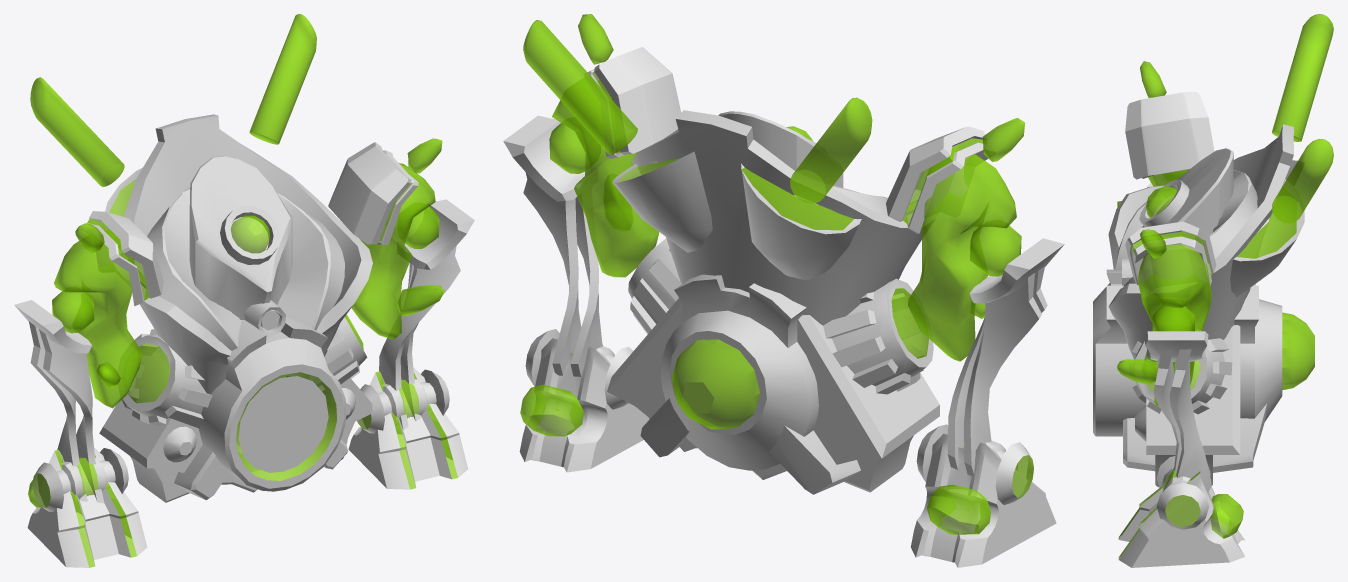
File: jade_turret.glb
The picture shows the model from 3 angles, left to right: view 1: azimuth 30°, elevation 25°; view 2: azimuth 150°, elevation 25°; view 3: azimuth 270°, elevation 25°; orthographic projection. The views are drawn at different scales.
Parts seen in each view (by area): view 1: FIN_Body, FIN_Leg, FIN_UpperLeg, FIN_Foot, FIN_Jade, FIN_LegArmour.001; view 2: FIN_Body, FIN_Leg, FIN_UpperLeg, FIN_Foot, FIN_Jade, FIN_LegArmour.001; view 3: FIN_Body, FIN_LegArmour.001, FIN_Jade, FIN_Leg, FIN_Foot, FIN_UpperLeg.
Part boxes in pixels (x1,y1,x2,y2): FIN_Body: (99, 114, 372, 502); FIN_Leg: (14, 199, 474, 515); FIN_UpperLeg: (52, 163, 439, 408); FIN_Foot: (27, 367, 467, 567); FIN_Jade: (30, 14, 444, 387); FIN_LegArmour.001: (86, 142, 418, 306); FIN_Body: (607, 110, 939, 494); FIN_Leg: (503, 115, 1064, 504); FIN_UpperLeg: (549, 80, 1021, 361); FIN_Foot: (519, 338, 1056, 567); FIN_Jade: (523, 14, 1024, 318); FIN_LegArmour.001: (587, 47, 988, 233); FIN_Body: (1093, 124, 1314, 487); FIN_LegArmour.001: (1125, 91, 1216, 285); FIN_Jade: (1117, 14, 1333, 384); FIN_Leg: (1144, 182, 1211, 529); FIN_Foot: (1118, 471, 1244, 567); FIN_UpperLeg: (1137, 169, 1211, 407).
Bounding box in the file's own units: 9.83 × 8.72 × 4.82.
